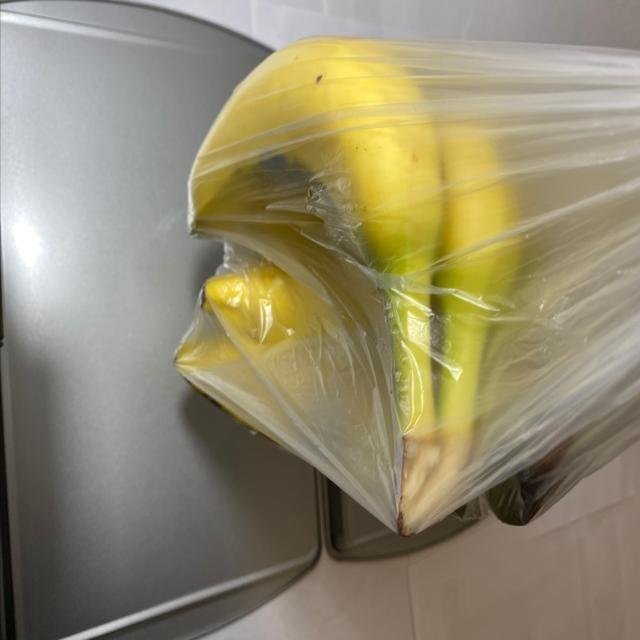banana: (168, 34, 568, 541)
